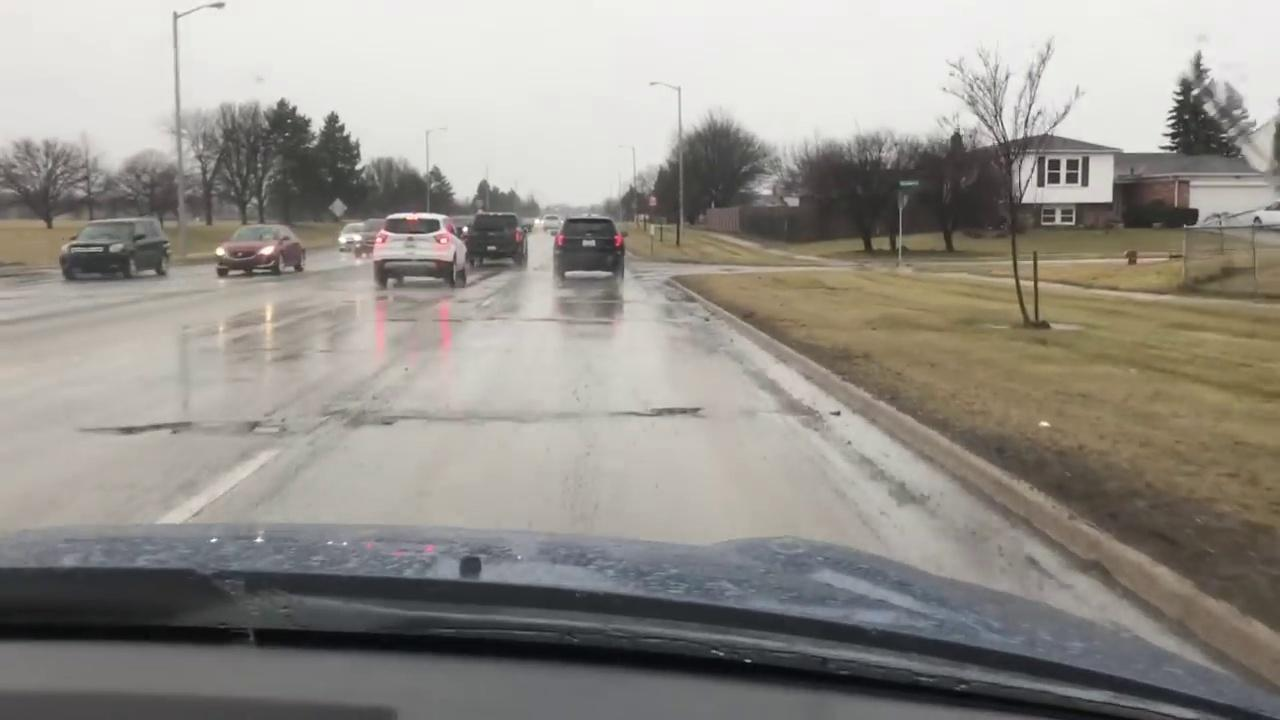pothole: (583, 405, 709, 421), (98, 420, 206, 436), (243, 415, 297, 440)
